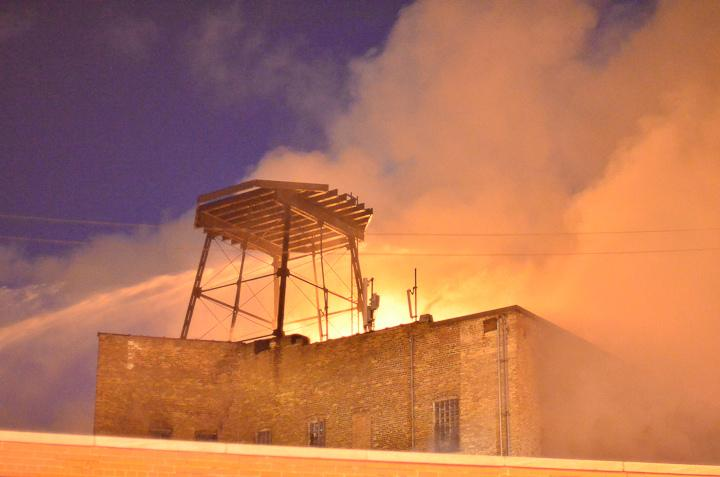fire: (314, 291, 448, 329)
